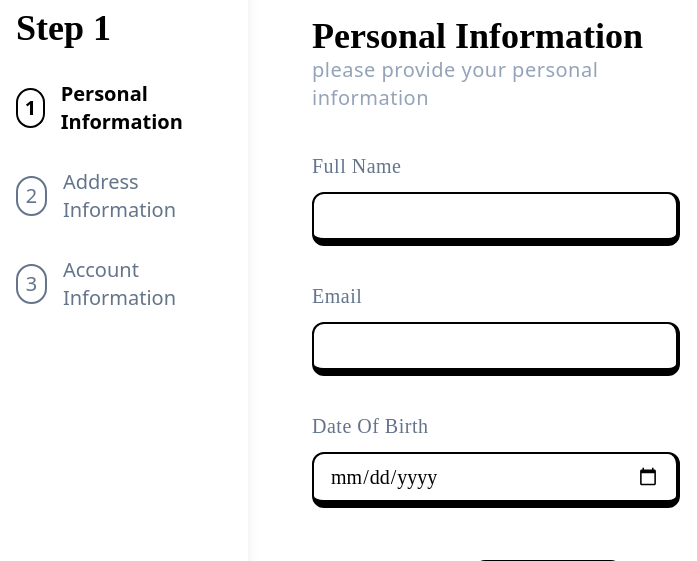
Test: user input invalid fullname
Type "ui" into the field with test id "fullname-input" at (496, 219), box x1=312 y1=192 x2=680 y2=246
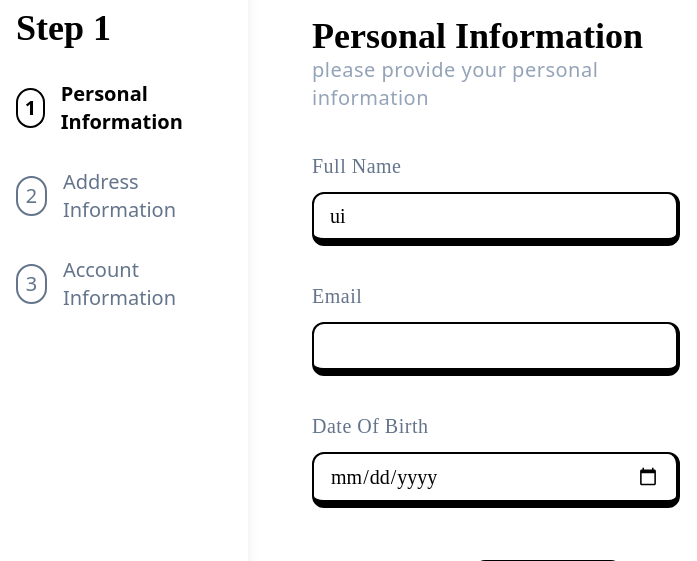
Press Tab
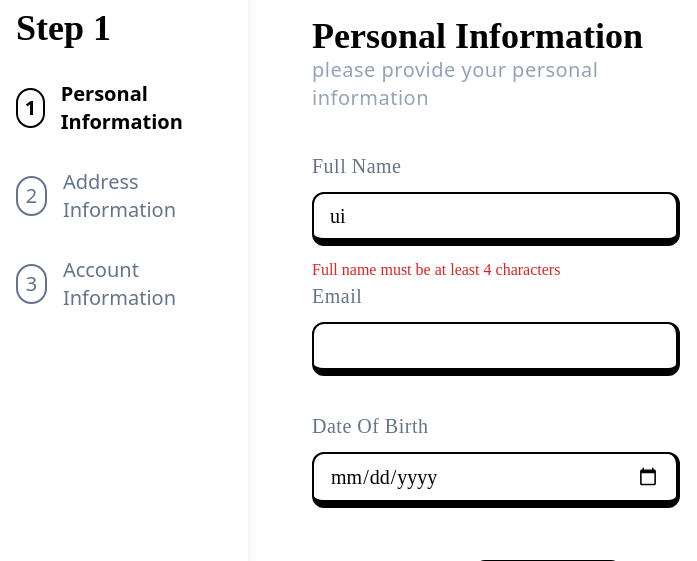
Expected: the message "Full name must be at least 4 characters" is shown, x1=312 y1=261 x2=560 y2=278
